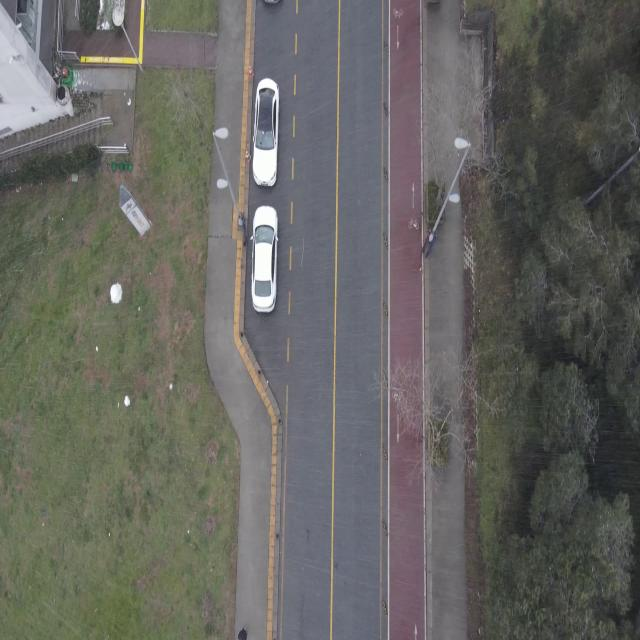p3rson: (237, 626, 247, 640)
